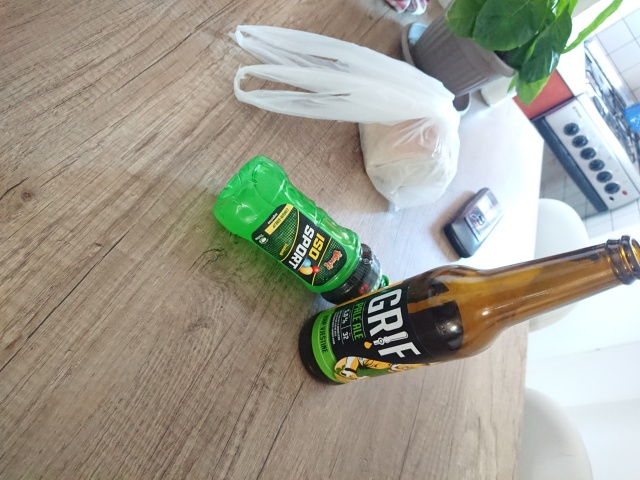Vindi Iso Sport Lemon-Grapefruit 500mL: (208, 152, 410, 309)
